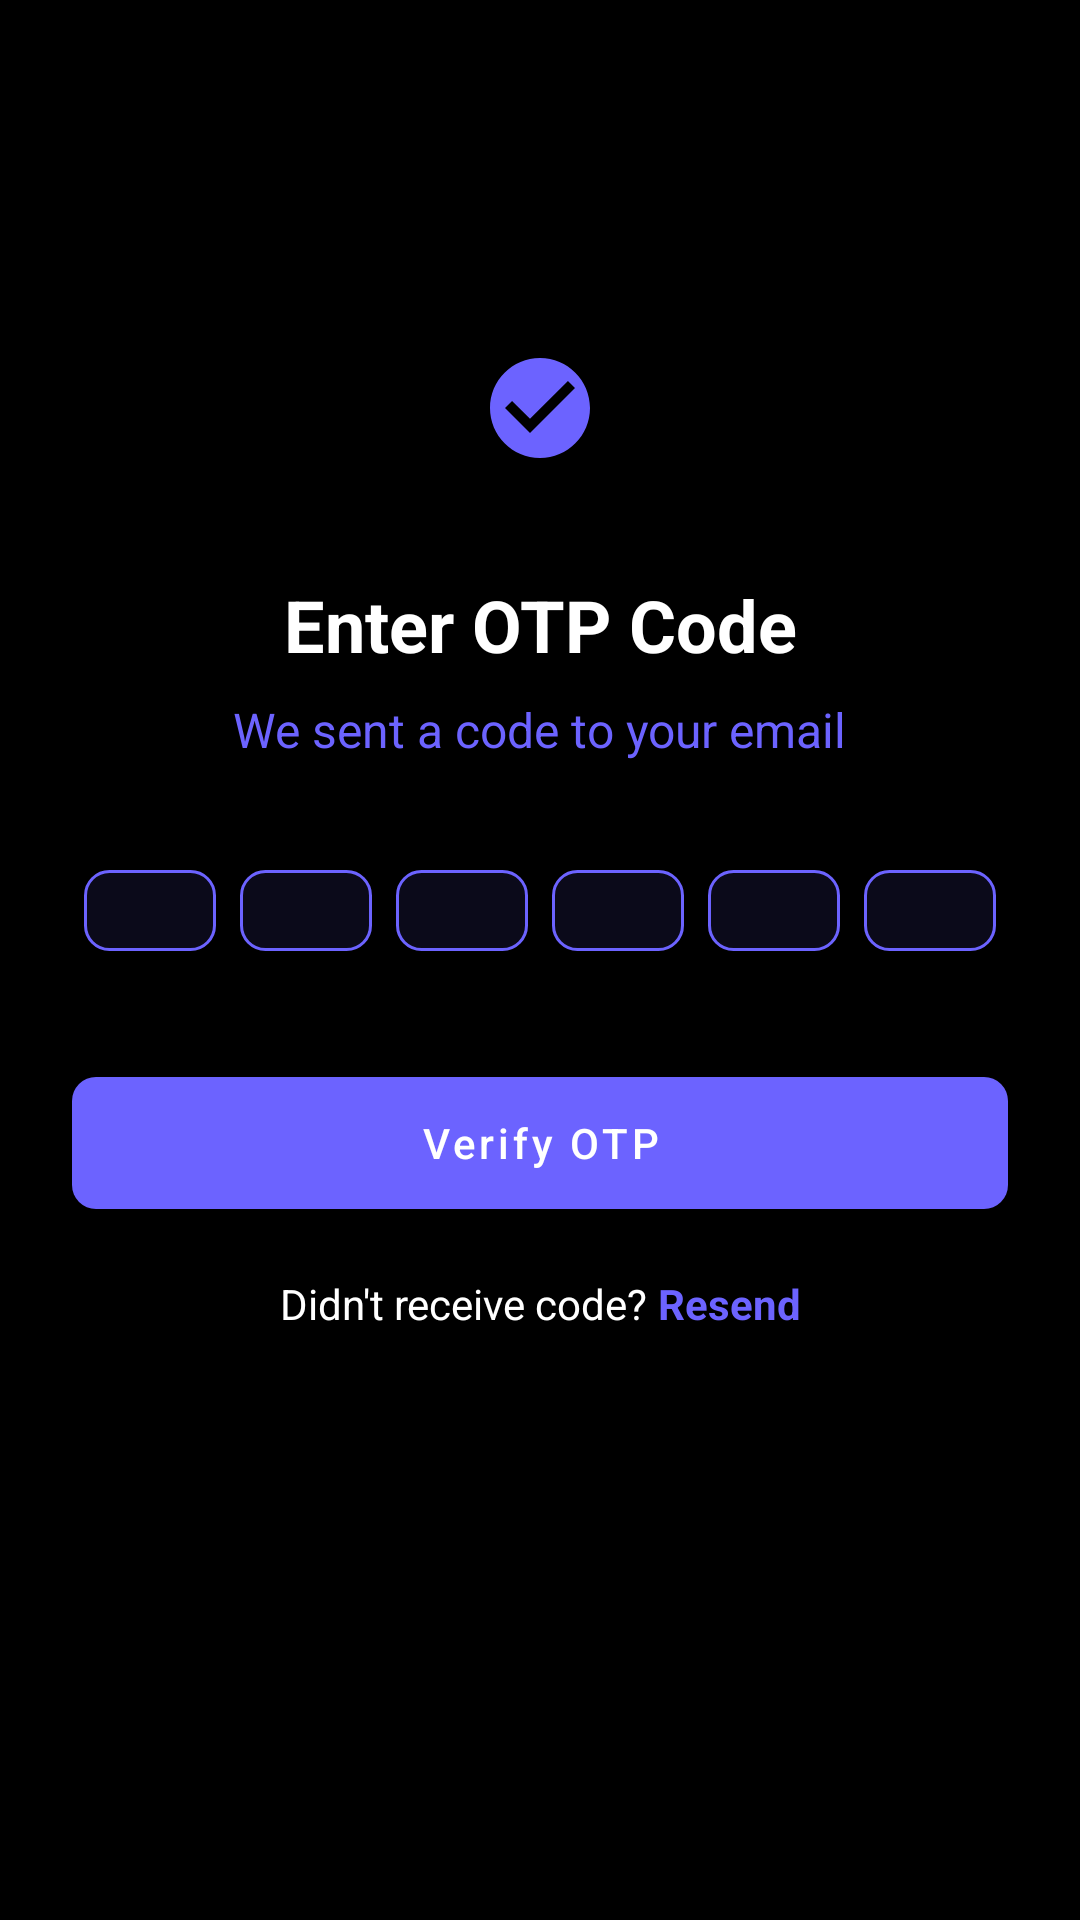

Named icons in this screenshot (1080w x 1920h) and their centers, [x,y]:
verification: [540,408]
